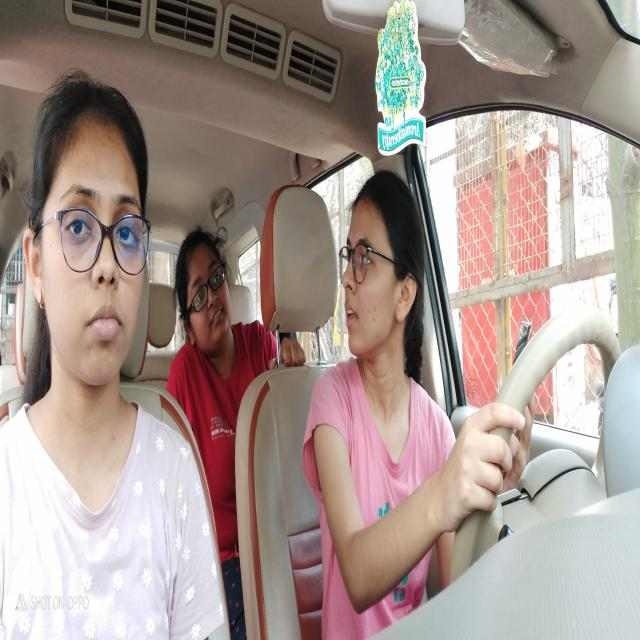mobile: (506, 318, 536, 381)
person: (25, 65, 148, 409), (339, 168, 426, 385), (171, 225, 236, 362)
